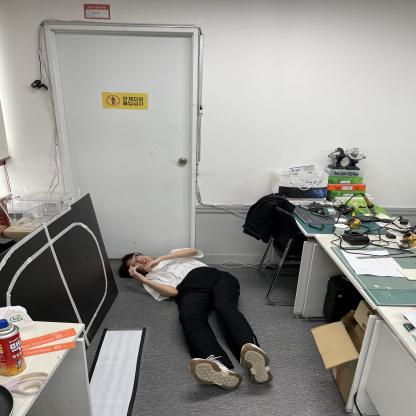fall: (122, 240, 274, 392)
